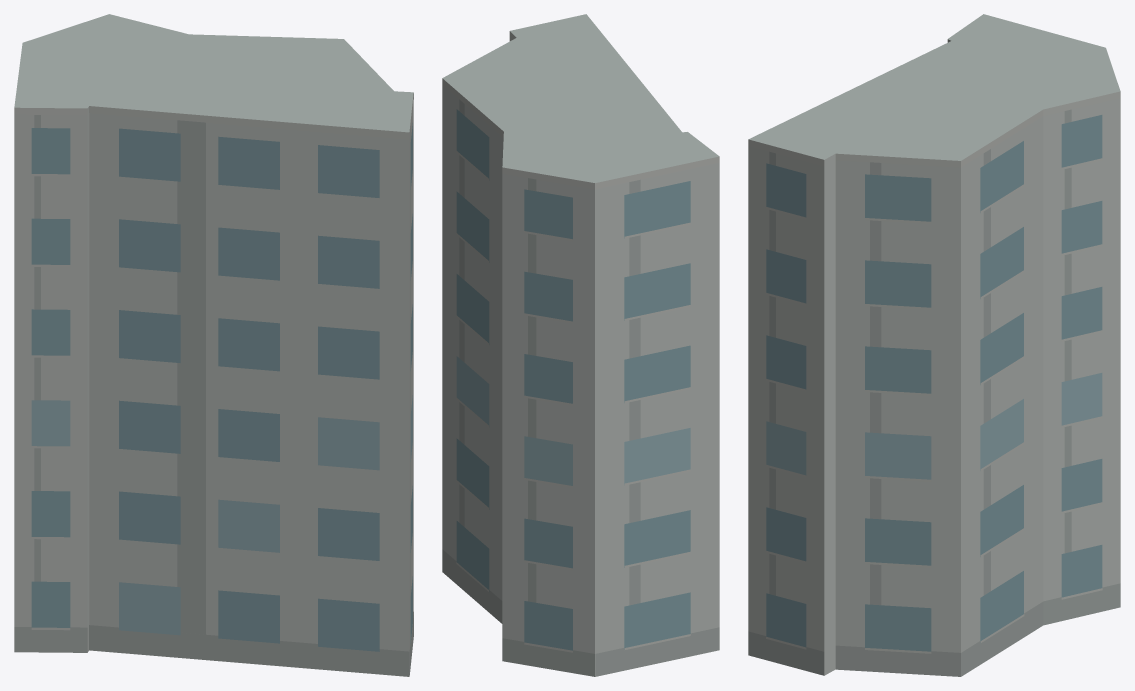
The model's file is survey-upis-32483349.glb.
The picture shows the model from 3 angles, left to right: view 1: azimuth 30°, elevation 25°; view 2: azimuth 150°, elevation 25°; view 3: azimuth 270°, elevation 25°; orthographic projection. The views are drawn at different scales.
Visible parts, largest first — view 1: survey-upis-32483349.tmp; view 2: survey-upis-32483349.tmp; view 3: survey-upis-32483349.tmp.
Part boxes in pixels (x1,y1,x2,y2): survey-upis-32483349.tmp: (14,14,413,676); survey-upis-32483349.tmp: (442,14,719,676); survey-upis-32483349.tmp: (748,14,1120,676).
Bounding box in the file's own units: 11.65 × 19.05 × 12.47.
